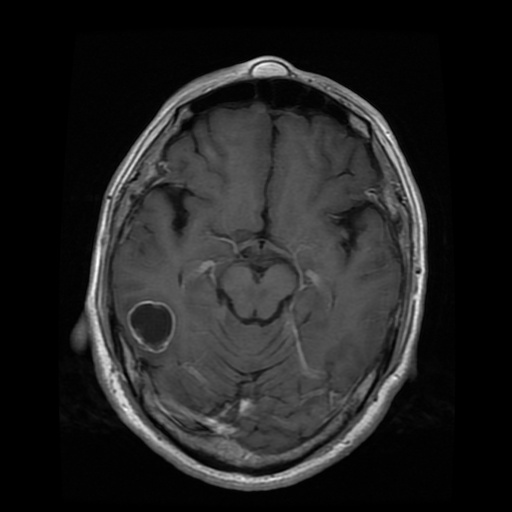glioma: (127, 300, 176, 352)
